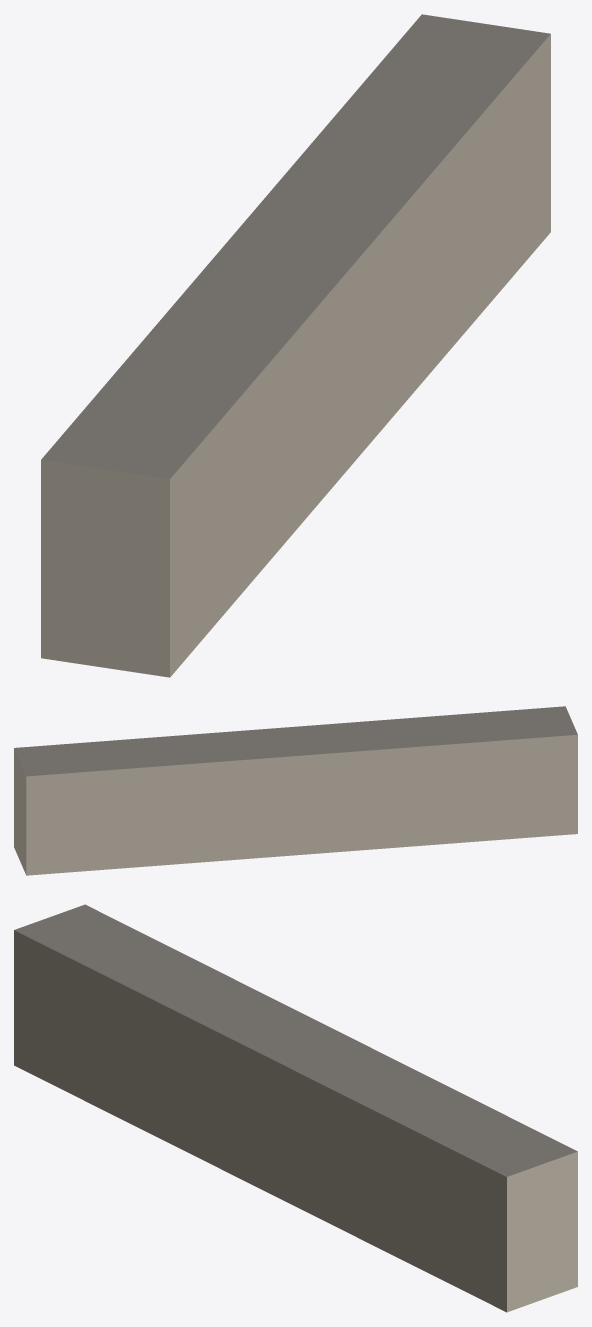
3 views of the same model, one above another, from view 1: azimuth 30°, elevation 25°; view 2: azimuth 150°, elevation 25°; view 3: azimuth 270°, elevation 25° (orthographic). The views are drawn at different scales.
Visible parts, largest first — view 1: HP-w859488714; view 2: HP-w859488714; view 3: HP-w859488714.
Boxes of the visible parts, bbox=[...] form: HP-w859488714: bbox=[41, 14, 550, 677]; HP-w859488714: bbox=[14, 706, 577, 875]; HP-w859488714: bbox=[14, 904, 577, 1312].
Bounding box in the file's own units: 77.71 × 18 × 67.94.
